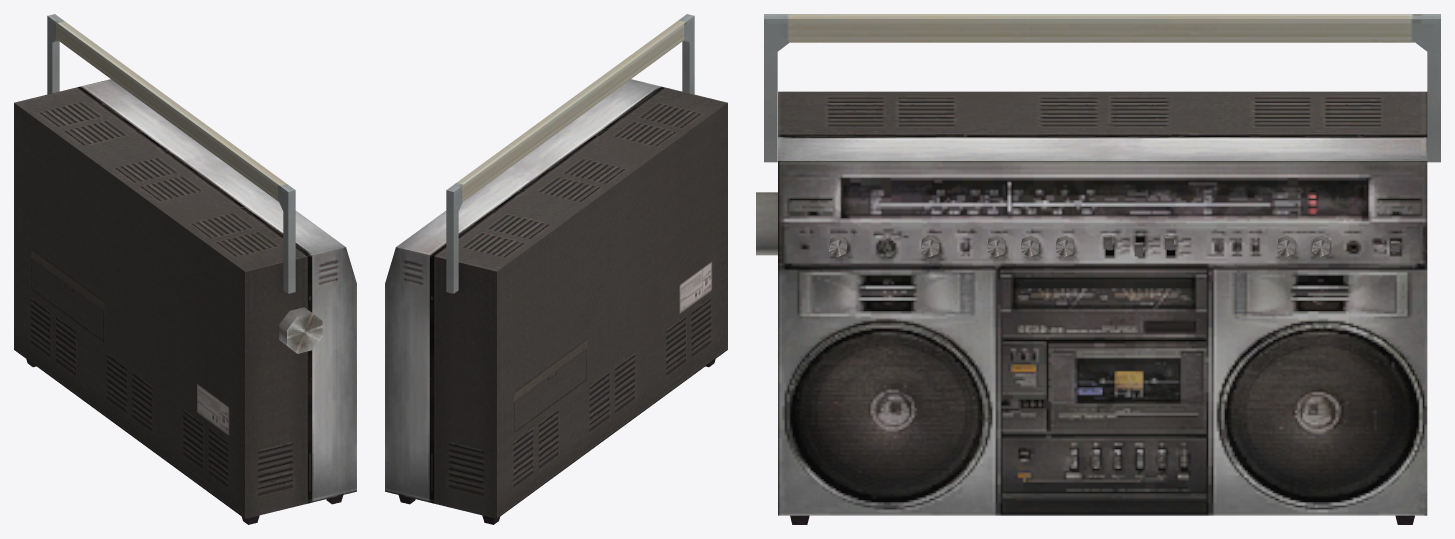
The model's file is boombox.glb.
3 views of the same model, side by side, from view 1: azimuth 30°, elevation 25°; view 2: azimuth 150°, elevation 25°; view 3: azimuth 270°, elevation 25° (orthographic). The views are drawn at different scales.
Parts seen in each view (by area): view 1: Object_2; view 2: Object_2; view 3: Object_2.
Boxes of the visible parts, x1=… form: Object_2: x1=14, y1=14, x2=356, y2=524; Object_2: x1=385, y1=14, x2=727, y2=524; Object_2: x1=756, y1=14, x2=1440, y2=524.
Size of the model in its own units: 1925 by 5205 by 6905.
1 material, 1 textured.
